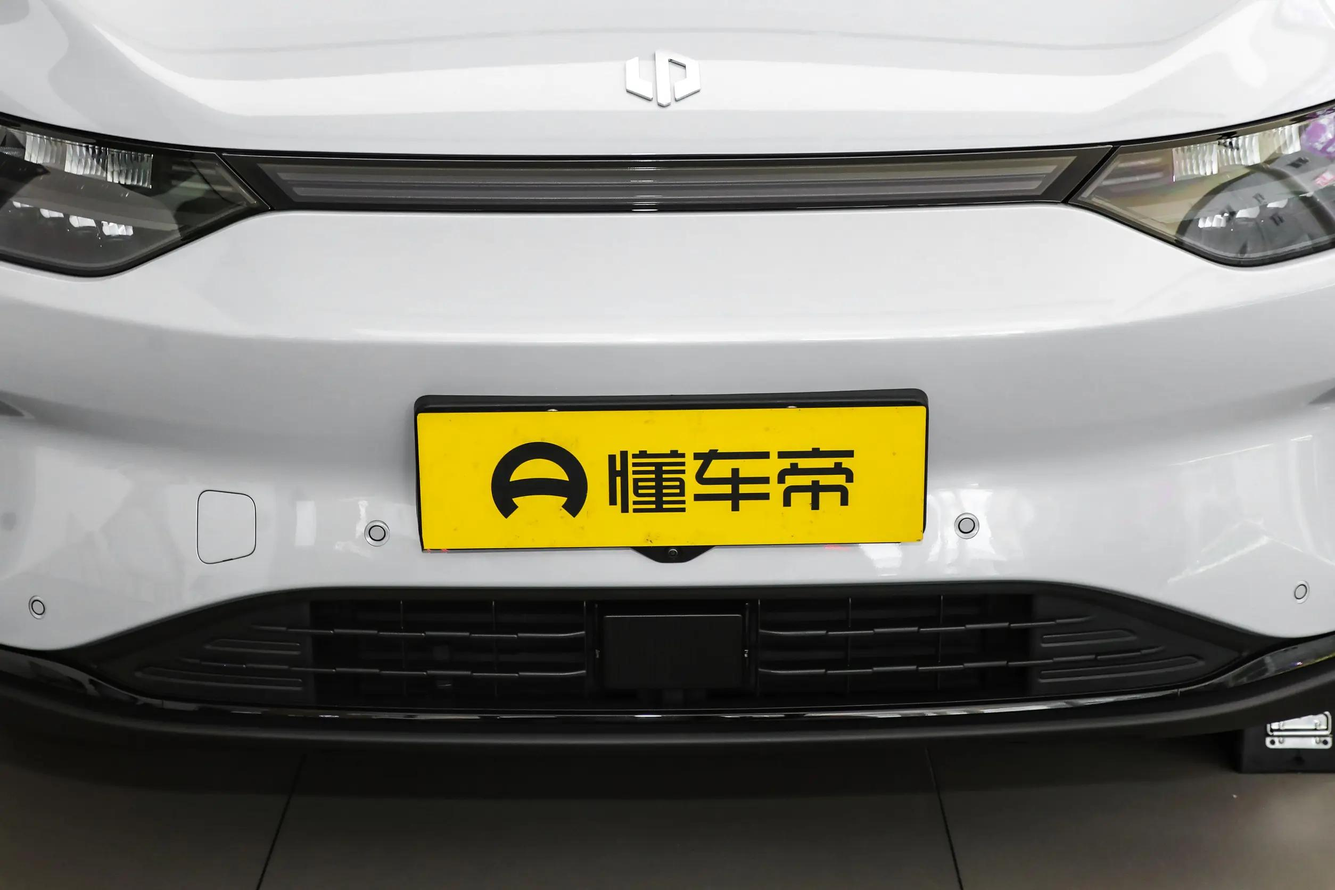LEAPMOTOR: (624, 46, 704, 108)
